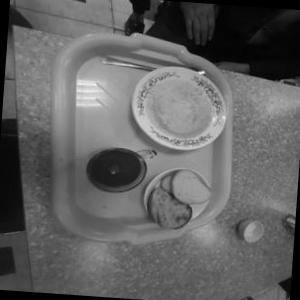bread: (160, 160, 216, 212)
cheese_sandwich: (140, 182, 202, 244)
coffee: (76, 139, 156, 199)
porridge: (134, 63, 225, 149)
